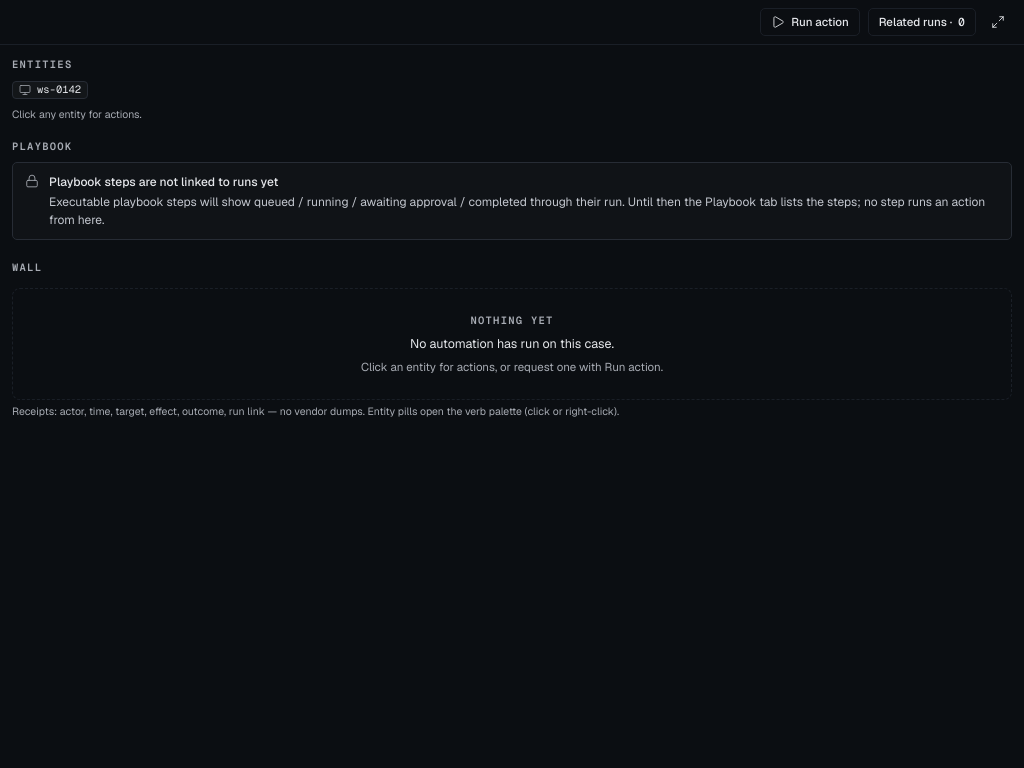
it: palette lists unavailable packs with the reason, after usable ones
This screenshot has width=1024, height=768.
Expected: the text "No automation has run on this case." is shown, [410,335,614,352]
Click the button with aria-label "Actions for ws-0142": (50, 90) [12,81,88,99]
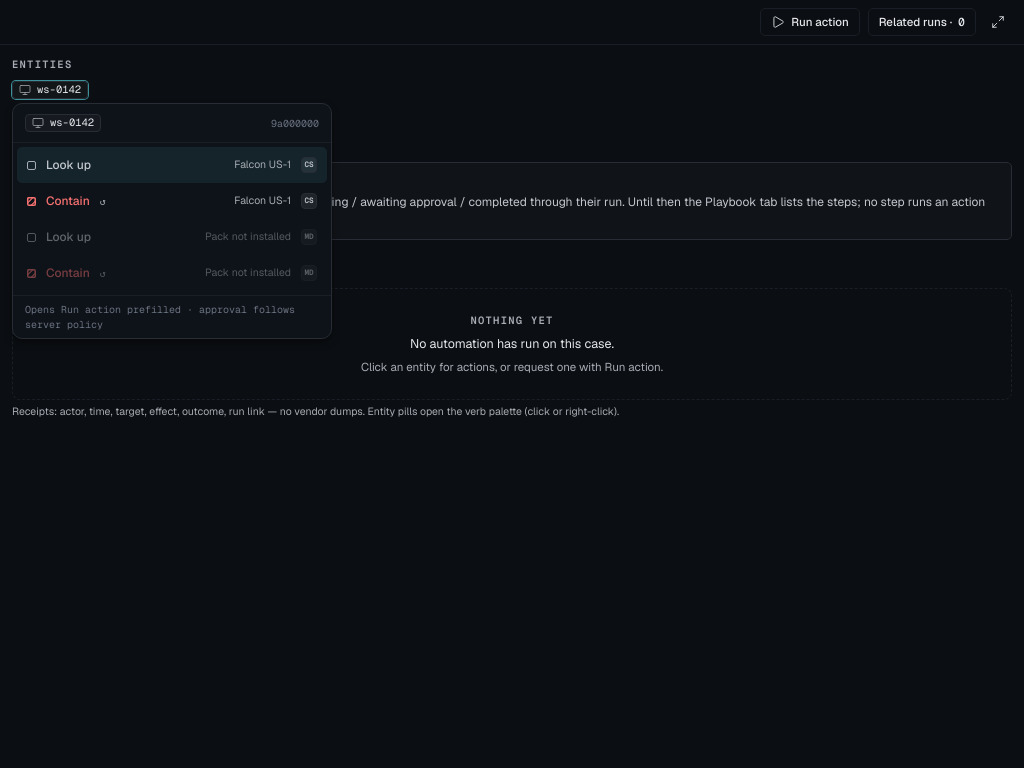
Now the text "Pack not installed" is shown 2 times, box [205,229,291,245]; [205,265,291,281]
